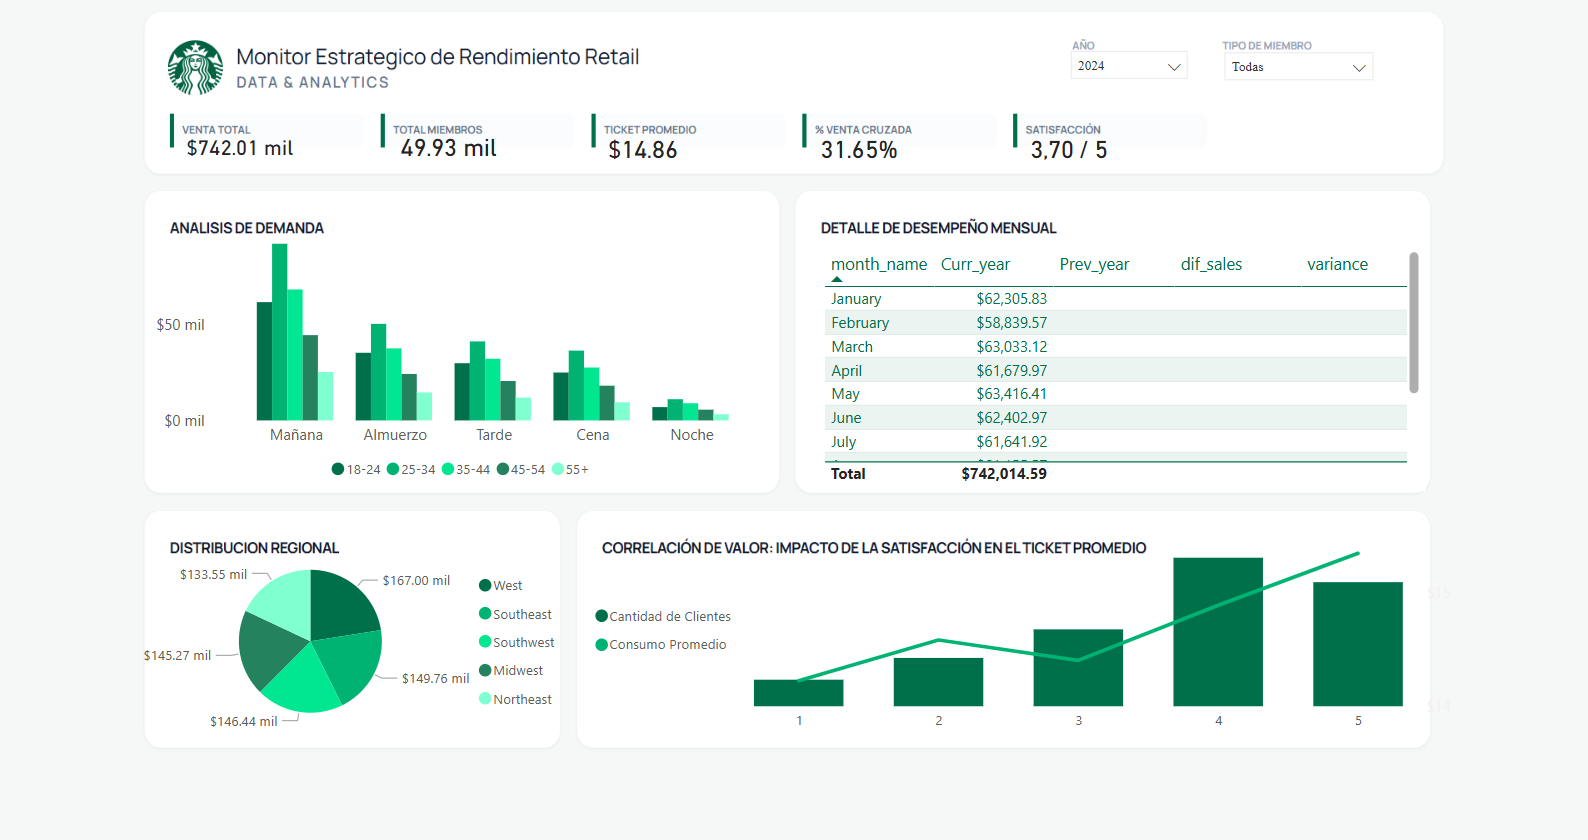

The page's visual inventory and layout, read from the dashboard file:
{"tool":"powerbi","page":{"name":"Página 1","canvas":[1280,720],"ordinal":0},"visuals":[{"type":"shape","box":[822.1,50,322.1,35.7],"z":0},{"type":"clusteredColumnChart","fields":{"Category":["Sheet1.Horario"],"Y":["Sum(Sheet1.total_spend)"],"Series":["Sheet1.customer_age_group"]},"box":[123.6,186.4,502.7,211.8],"z":1000},{"type":"pieChart","fields":{"Y":["Sum(Sheet1.total_spend)"],"Category":["Sheet1.region"]},"box":[112.5,437.5,350,160],"z":2000},{"type":"slicer","fields":{"Values":["Sheet1.year"]},"box":[850.7,36.4,114.3,49.3],"z":3000},{"type":"card","fields":{"Values":["Avg(Sheet1.total_spend)"]},"box":[477.9,105,81.4,39.3],"z":4000},{"type":"slicer","fields":{"Values":["Sheet1.customer_tier"]},"box":[973.6,37.1,139.3,42.9],"z":5000},{"type":"card","fields":{"Values":["Sheet1.Satisfacción Formateada"]},"box":[814.8,107.5,89.3,34.3],"z":6000},{"type":"card","fields":{"Values":["Sum(Sheet1.total_spend)"]},"box":[118.6,84.9,154.7,77.9],"z":7000},{"type":"card","fields":{"Values":["Sheet1.% Venta Cruzada (Comida)"]},"box":[648.8,108.8,85,32.5],"z":8000},{"type":"card","fields":{"Values":["CountNonNull(Sheet1.customer_tier)"]},"box":[288.2,105.5,150,35.5],"z":9000},{"type":"shape","box":[570,170.9,50,30],"z":10000},{"type":"shape","box":[1095,171.2,50,30],"z":11000},{"type":"image","box":[92.2,36.7,137.8,43.9],"z":12000},{"type":"tableEx","fields":{"Values":["Sheet1.month_name","Sheet1.Current_year_sales","Sheet1.Previos_year_sales","Sheet1.dif_prev_vs_curr_year","Sheet1.Formated_var"]},"box":[657.5,201.2,487.5,196.2],"z":13000},{"type":"lineClusteredColumnComboChart","fields":{"Category":["Sheet1.customer_satisfaction"],"Y":["CountNonNull(Sheet1.customer_satisfaction)"],"Y2":["Avg(Sheet1.total_spend)"]},"box":[475,420,693.8,177.5],"z":14000}]}

Visuals, with their boxes on the page's 1280x720 design canvas (x1, y1, x2, y2). These are canvas units, not pixel positions in the 1588x840 screenshot, which may show the page scaled, cropped or inside an application window:
shape: x1=822, y1=50, x2=1144, y2=86
clusteredColumnChart - Sheet1.Horario x Sum(Sheet1.total_spend): x1=124, y1=186, x2=626, y2=398
pieChart - Sum(Sheet1.total_spend) x Sheet1.region: x1=112, y1=438, x2=462, y2=598
slicer - Sheet1.year: x1=851, y1=36, x2=965, y2=86
card - Avg(Sheet1.total_spend): x1=478, y1=105, x2=559, y2=144
slicer - Sheet1.customer_tier: x1=974, y1=37, x2=1113, y2=80
card - Sheet1.Satisfacción Formateada: x1=815, y1=108, x2=904, y2=142
card - Sum(Sheet1.total_spend): x1=119, y1=85, x2=273, y2=163
card - Sheet1.% Venta Cruzada (Comida): x1=649, y1=109, x2=734, y2=141
card - CountNonNull(Sheet1.customer_tier): x1=288, y1=106, x2=438, y2=141
shape: x1=570, y1=171, x2=620, y2=201
shape: x1=1095, y1=171, x2=1145, y2=201
image: x1=92, y1=37, x2=230, y2=81
tableEx - Sheet1.month_name x Sheet1.Current_year_sales: x1=658, y1=201, x2=1145, y2=397
lineClusteredColumnComboChart - Sheet1.customer_satisfaction x CountNonNull(Sheet1.customer_satisfaction): x1=475, y1=420, x2=1169, y2=598
